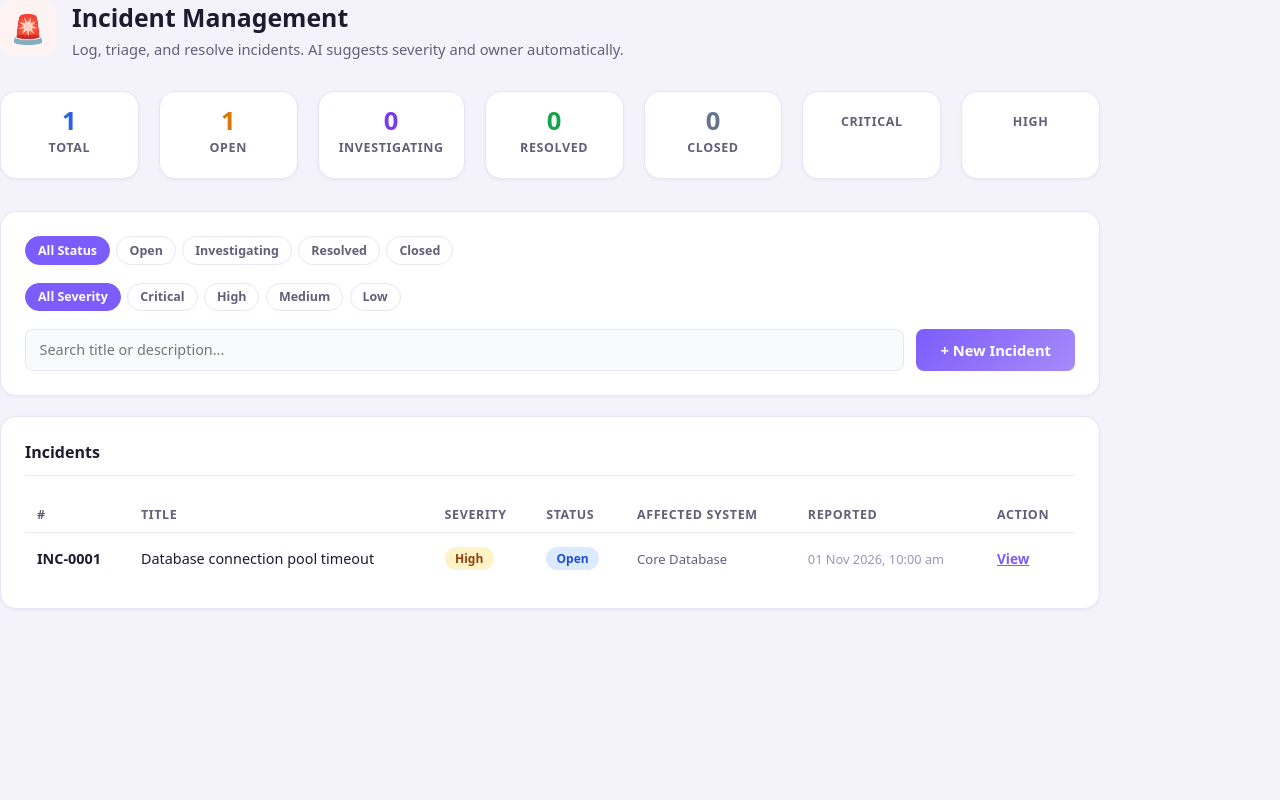
Test: IncidentManagement AI Triage › clicking Run AI Triage executes Gemini triage, shows loading state, and displays analysis
This screenshot has width=1280, height=800.
Click the row with class "clickable-row".
click(550, 558)  # box [25,533,1075,584]
(page scrolled)
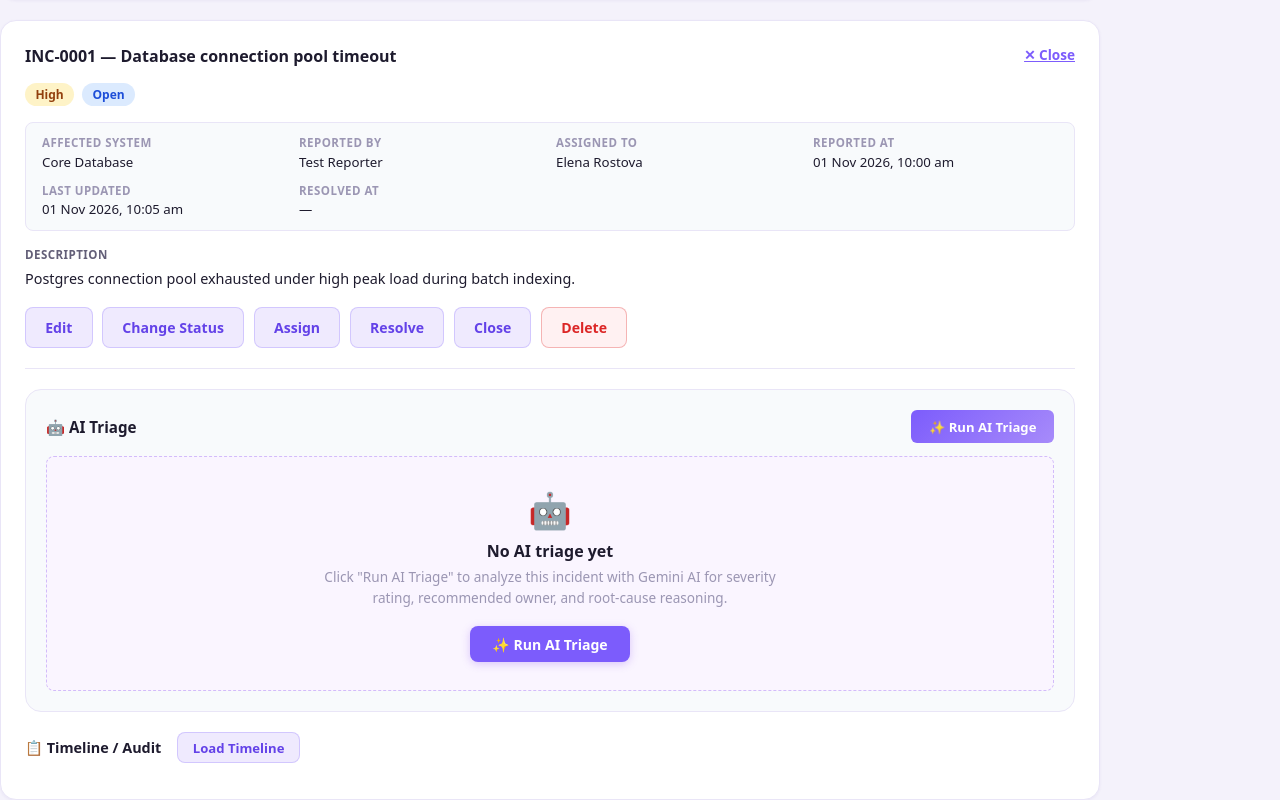
Result: the button "✨ Run AI Triage" in the row of "🤖 AI Triage" is shown
Click the button "✨ Run AI Triage" in the row of "🤖 AI Triage".
click(983, 427)  # box [911,410,1054,443]
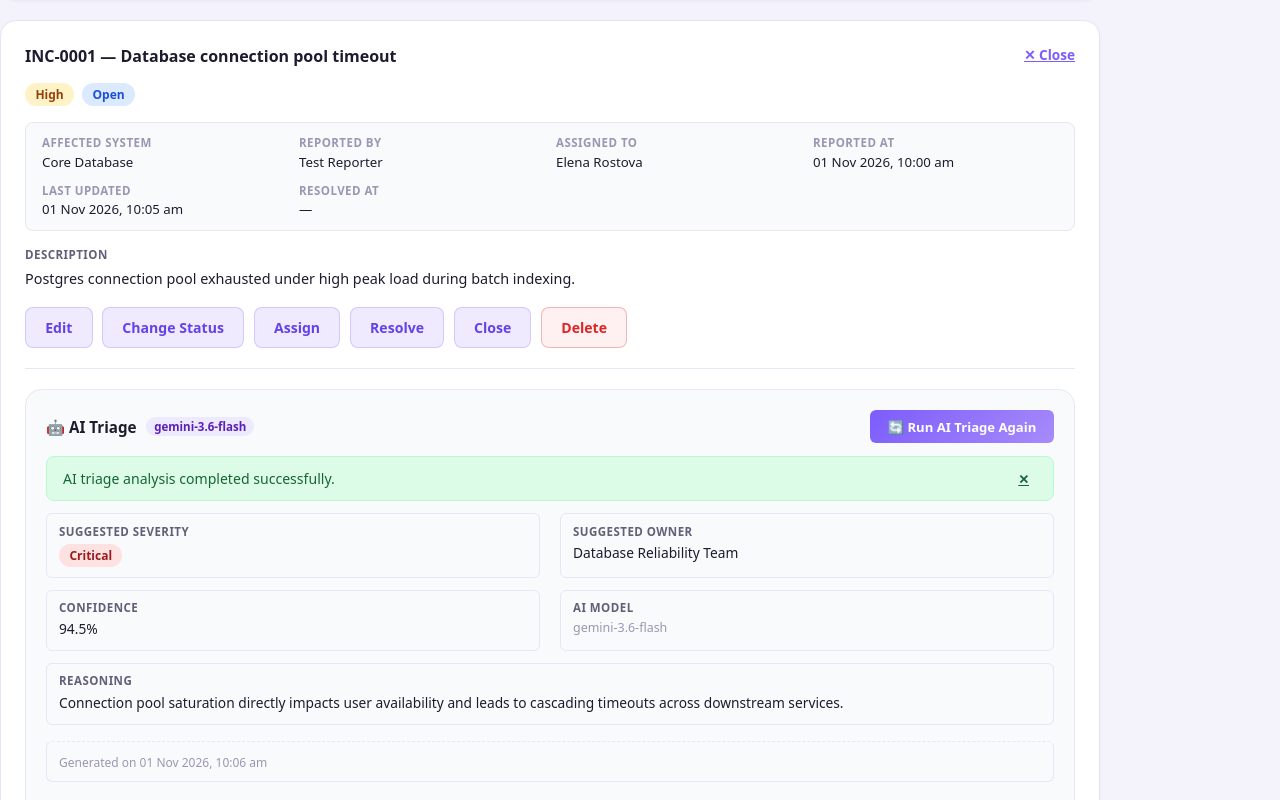
Result: the button "🔄 Run AI Triage Again" is shown at [870,410,1054,443]
Result: the element with class "inc-triage-section" shows "gemini-3.6-flash" at [154,419,246,434]
